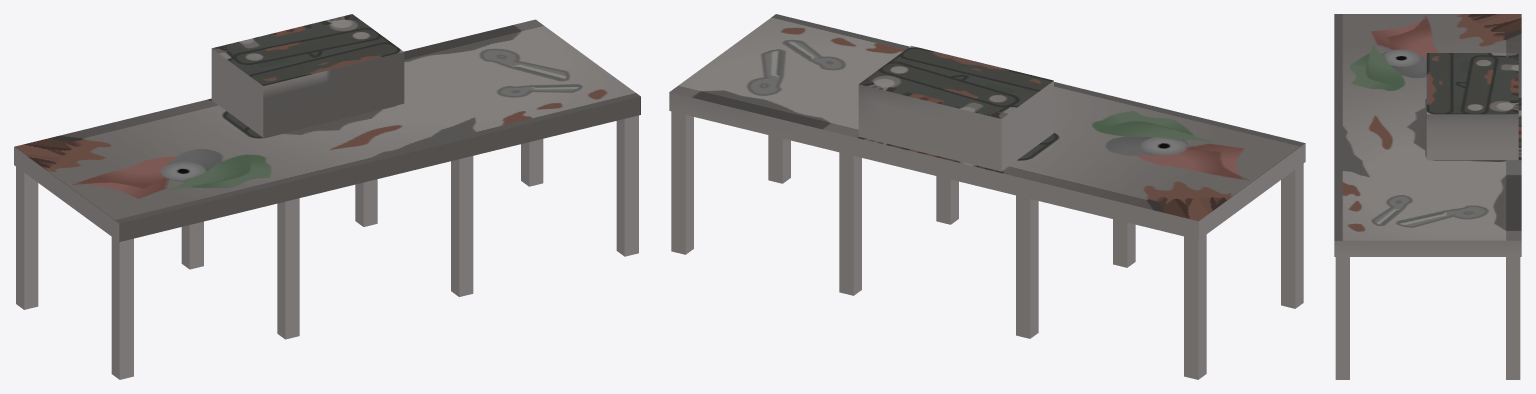
The model's file is Building_AncientTableTailorElectric.glb.
3 renders of one model, left to right at view 1: azimuth 30°, elevation 25°; view 2: azimuth 150°, elevation 25°; view 3: azimuth 270°, elevation 25°, orthographic. The views are drawn at different scales.
Parts seen in each view (by area): view 1: AncientTableTailorElectric; view 2: AncientTableTailorElectric; view 3: AncientTableTailorElectric.
Part boxes in pixels (box(x1,y1,x2,y2)): AncientTableTailorElectric: box(14, 14, 640, 379); AncientTableTailorElectric: box(669, 14, 1305, 379); AncientTableTailorElectric: box(1334, 14, 1521, 379).
Bounding box in the file's own units: 2.95 × 1.13 × 1.03.
1 material, 1 textured.
